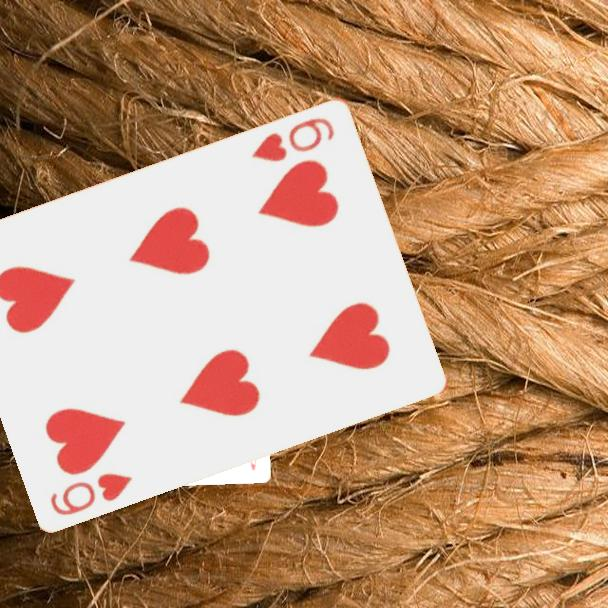h06: (248, 113, 338, 164), (46, 468, 136, 518)
